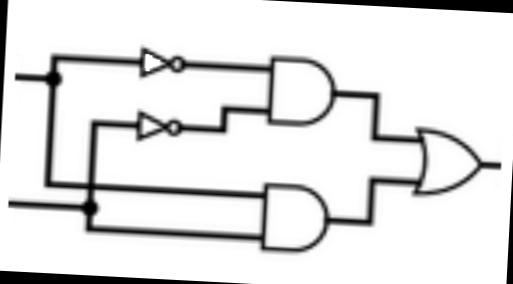and: (255, 45, 345, 138), (252, 177, 336, 267)
not: (130, 42, 194, 86), (128, 106, 189, 148)
or: (397, 117, 501, 210)
